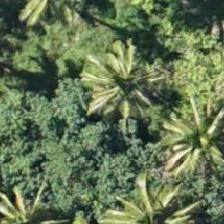coconut_tree: (81, 33, 171, 123), (161, 83, 223, 173), (104, 173, 194, 223)
